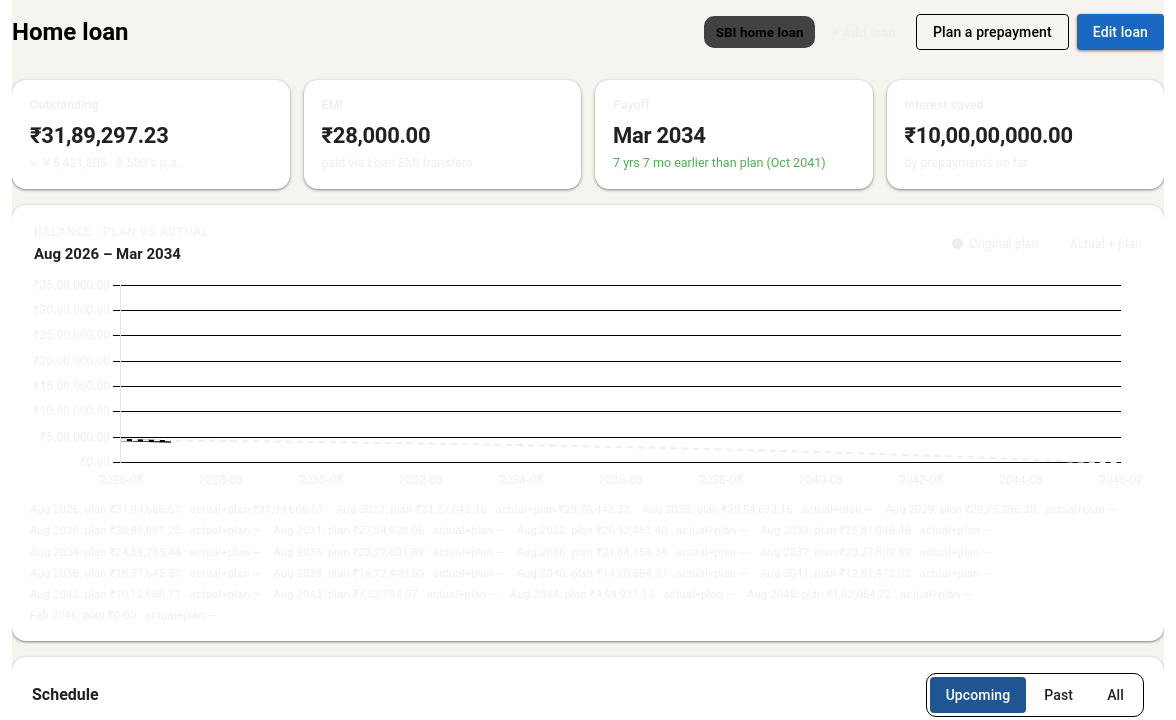
Test: LoanPage schedule filter › defaults to Upcoming (current cycle and later), and switches with Past/All
The image size is (1176, 720).
Click the button "Past" at (1059, 695), box top-left (1028, 677), bottom-right (1089, 713)
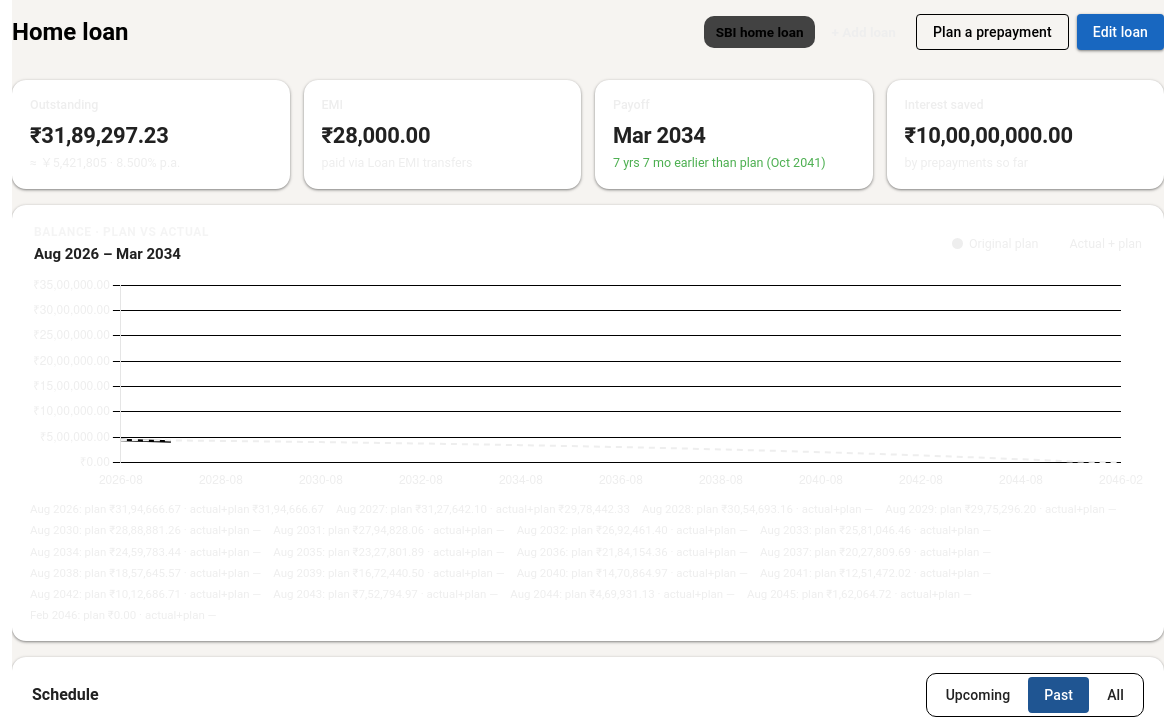
Click the button "All" at (1116, 695), box top-left (1091, 677), bottom-right (1140, 713)
(page scrolled)
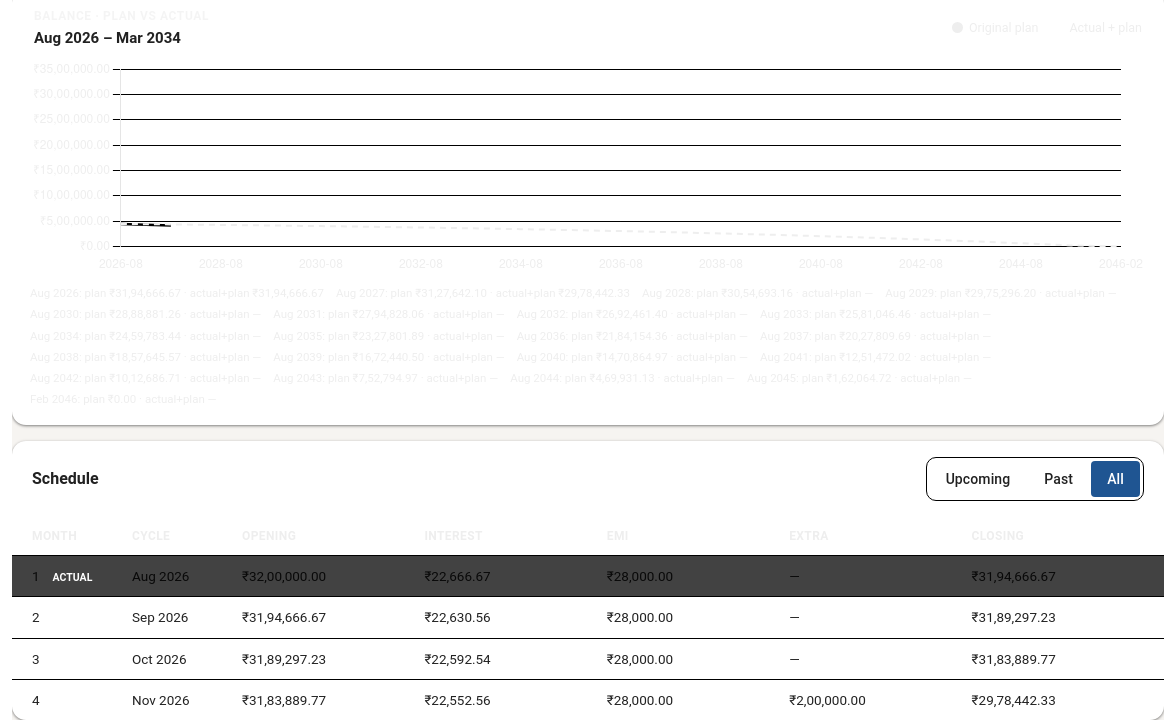
Result: the table named "Loan schedule" shows "Aug 2026" at top-left (132, 568), bottom-right (190, 584)
Result: the table named "Loan schedule" shows "Nov 2026" at top-left (132, 692), bottom-right (190, 708)
